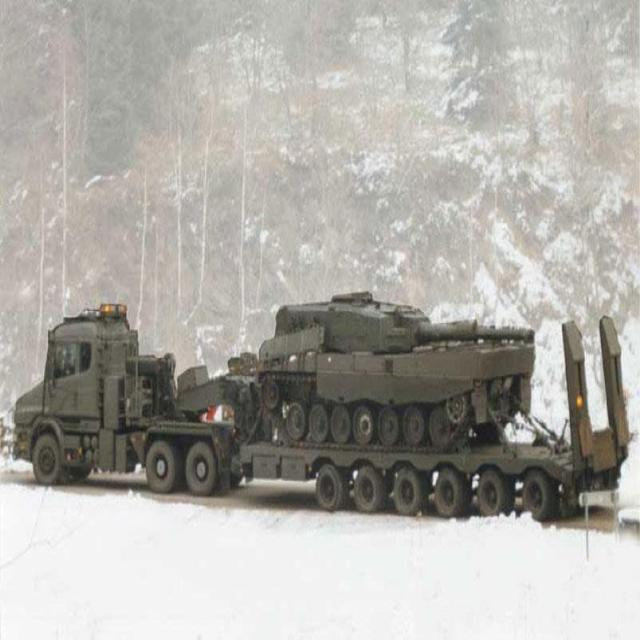Tanks: (254, 284, 536, 436)
